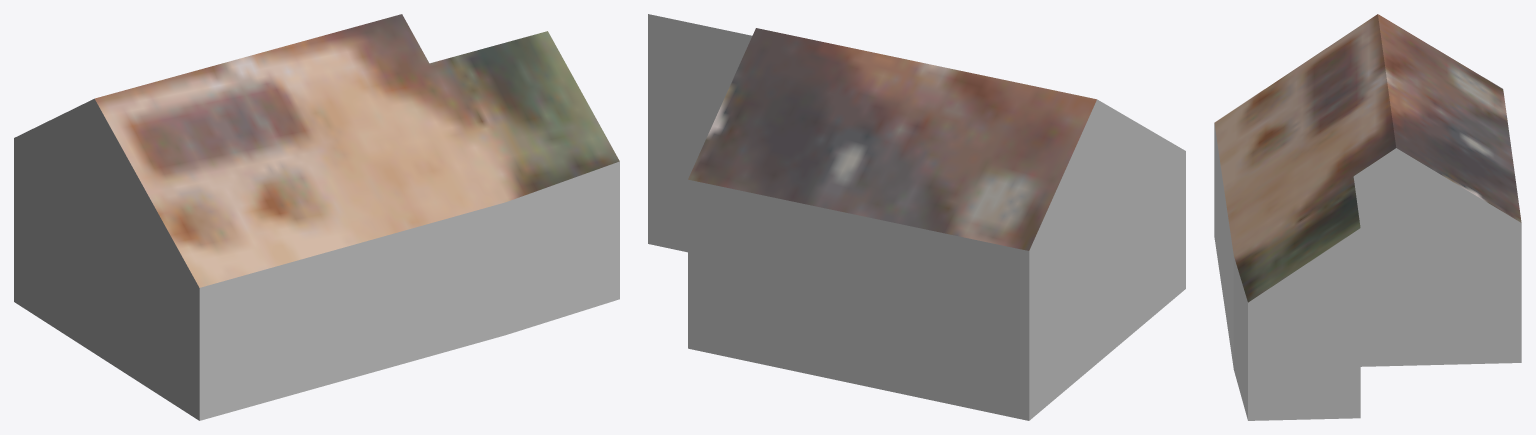
Rendered from DEBW_0010007Txdz.gltf.
The picture shows the model from 3 angles, left to right: view 1: azimuth 30°, elevation 25°; view 2: azimuth 150°, elevation 25°; view 3: azimuth 270°, elevation 25°; orthographic projection. The views are drawn at different scales.
Parts seen in each view (by area): view 1: Z_UP; view 2: Z_UP; view 3: Z_UP.
Part boxes in pixels (box(x1,y1,x2,y2)): Z_UP: box(14, 14, 619, 420); Z_UP: box(648, 14, 1185, 420); Z_UP: box(1214, 14, 1521, 420).
Bounding box in the file's own units: 14.93 × 7.96 × 10.13.
2 materials, 1 textured.
